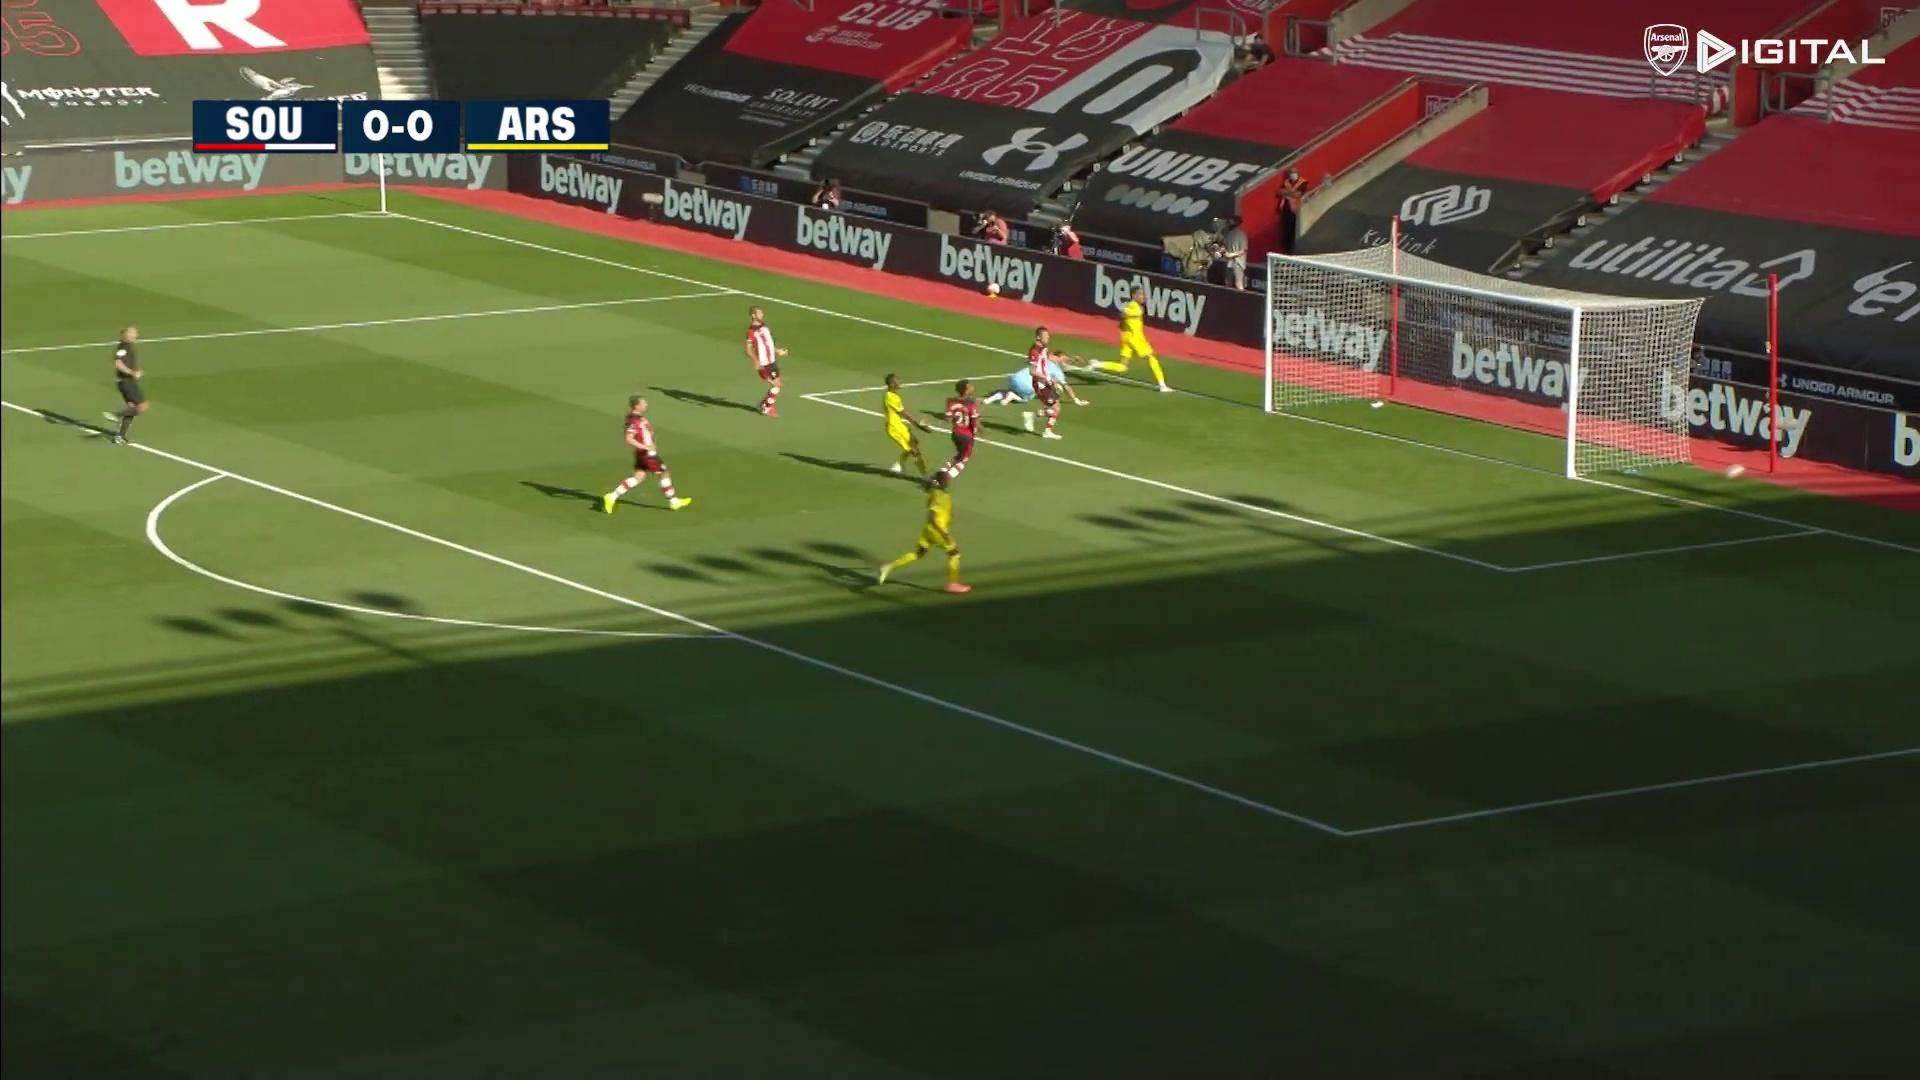ball: (1718, 460, 1753, 488), (985, 280, 1003, 297)
goalkeeper: (1086, 280, 1178, 396)
player: (873, 470, 995, 597), (597, 392, 699, 523), (862, 373, 940, 490), (732, 305, 800, 422), (984, 347, 1092, 414), (1013, 320, 1068, 443), (934, 375, 988, 489)
referee: (96, 322, 157, 452)
